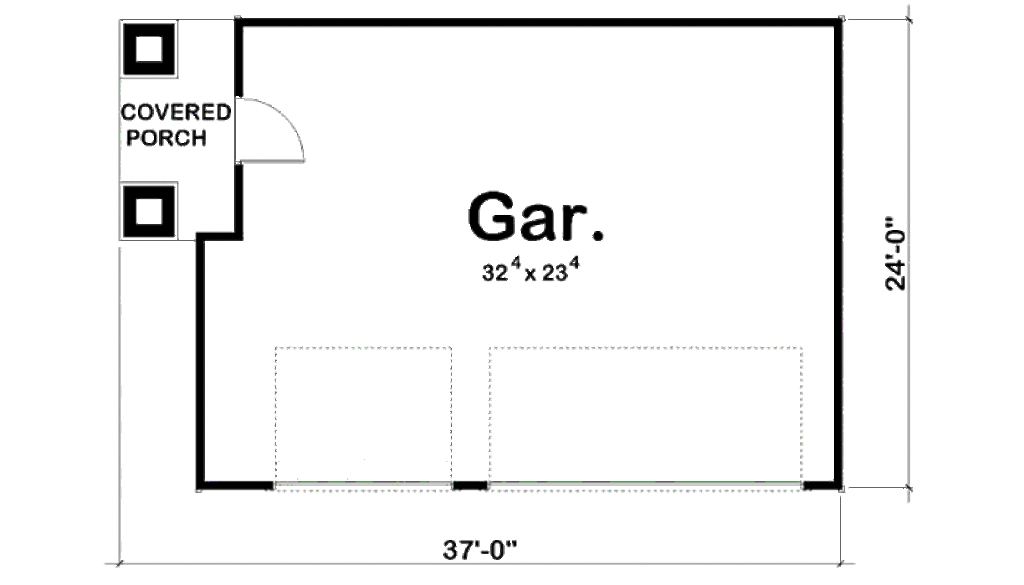door: (231, 95, 327, 180)
